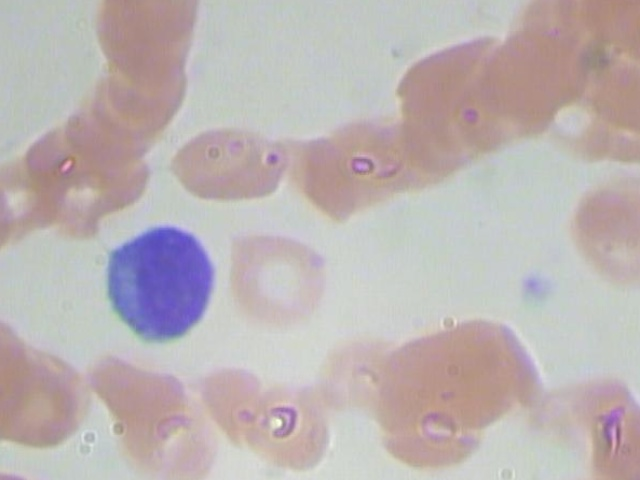RBC: (158, 116, 296, 202), (221, 230, 336, 329), (226, 381, 339, 470), (477, 23, 590, 112), (321, 114, 434, 203), (565, 167, 640, 296), (378, 388, 486, 475), (0, 351, 91, 453), (114, 397, 221, 480), (98, 0, 204, 55), (574, 400, 640, 480)
WBC: (93, 222, 217, 348)
